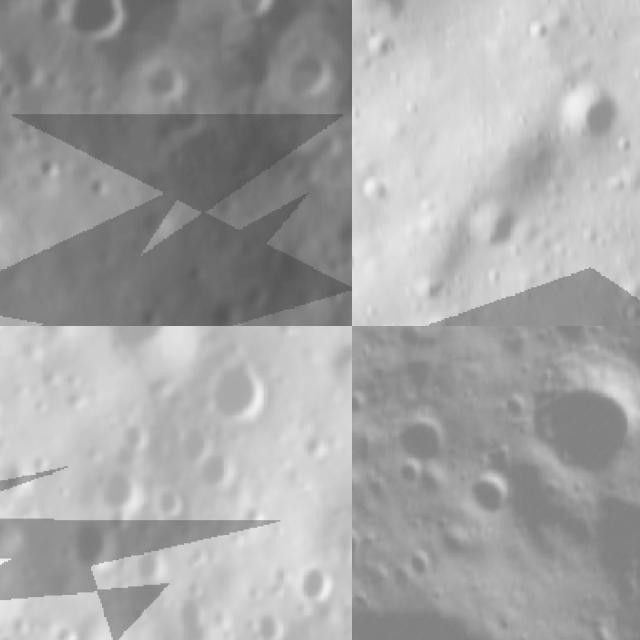crater: (515, 350, 640, 495), (558, 470, 640, 615), (548, 81, 627, 150), (390, 404, 460, 473), (206, 354, 270, 426), (456, 460, 516, 526), (123, 55, 199, 104), (49, 0, 126, 48), (68, 513, 124, 578), (534, 603, 631, 640), (277, 48, 337, 102), (470, 198, 525, 255), (101, 326, 180, 363), (523, 326, 605, 359), (285, 559, 336, 612), (192, 448, 241, 499), (176, 584, 219, 640), (96, 462, 146, 509), (398, 543, 442, 594), (169, 423, 215, 470), (126, 538, 172, 585), (152, 483, 195, 530), (246, 601, 294, 640), (391, 448, 434, 489), (352, 232, 381, 285), (352, 378, 378, 432), (218, 0, 275, 24), (208, 286, 242, 326), (352, 520, 376, 576), (298, 426, 334, 462), (49, 617, 83, 640), (0, 625, 24, 640), (135, 633, 172, 640)
